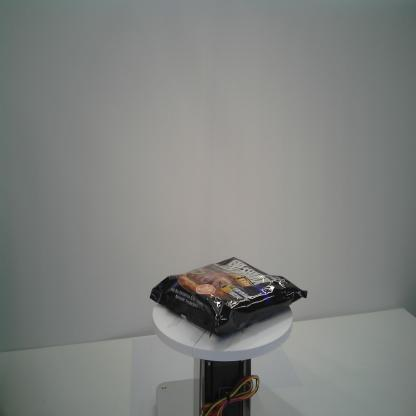Instant Noodles: (148, 256, 310, 339)
